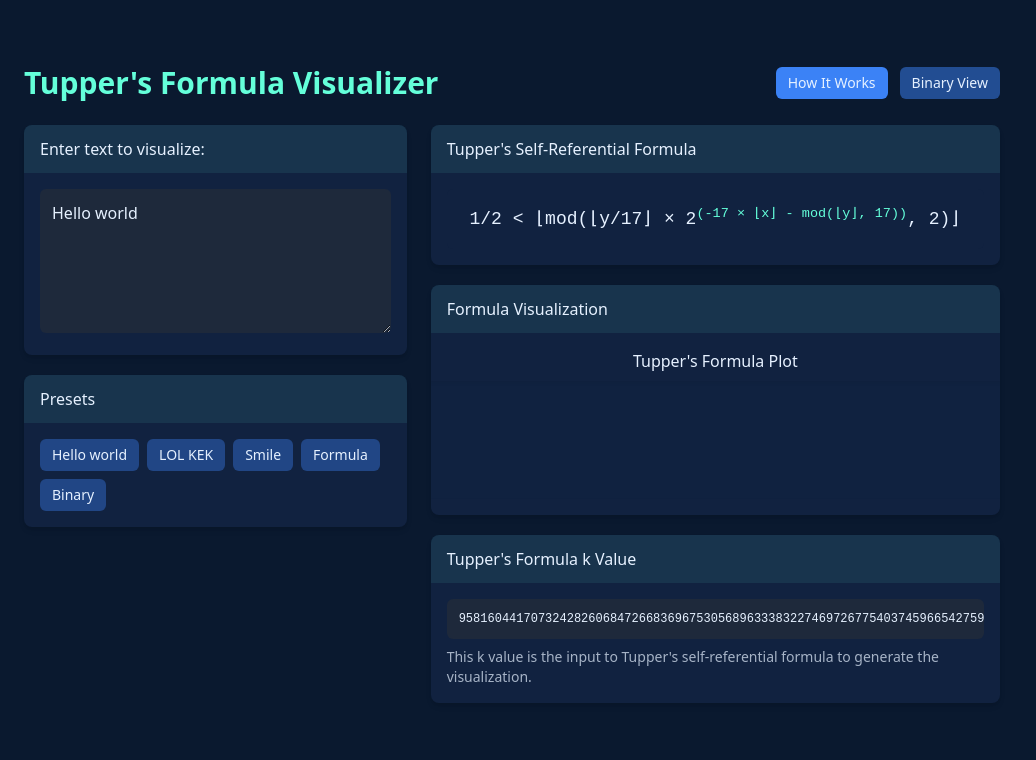
it: Tupper Formula Calculations › processes text to bitmap correctly
Replace the text in the text box with placeholder "Type text to visualize with Tupper's formula..." with "ABC". click: [215, 261]
box: left=40, top=189, right=391, bottom=333
Wait 300 ms
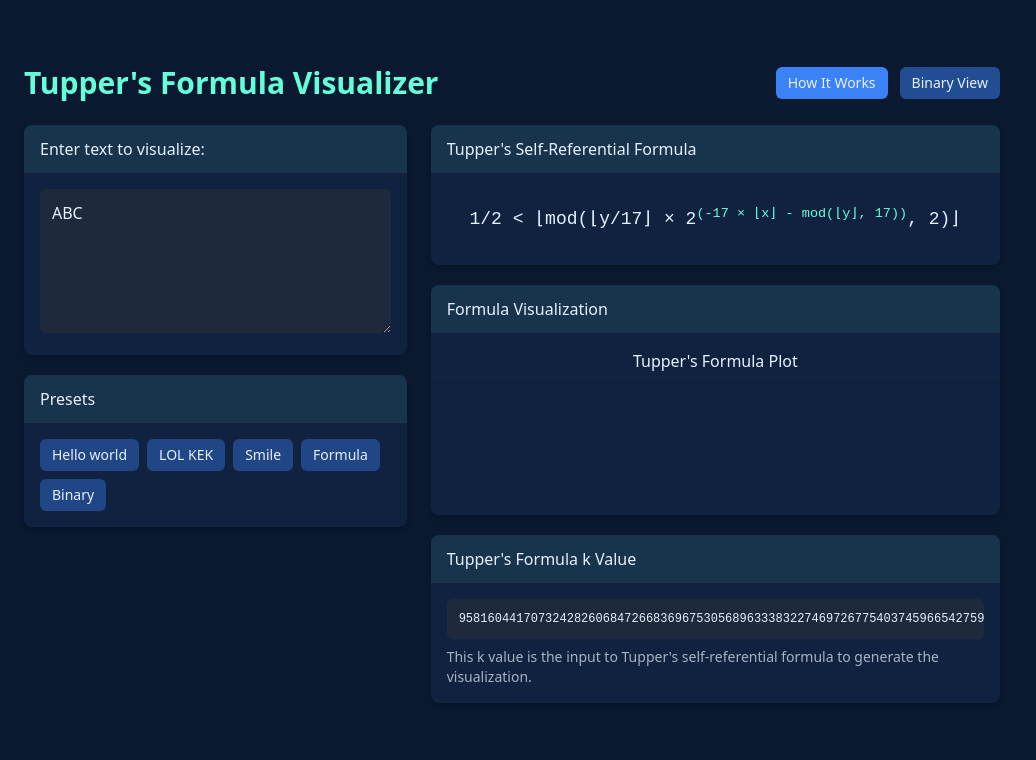
Click the button "Binary View". click: [950, 83]
box: left=900, top=67, right=1000, bottom=99
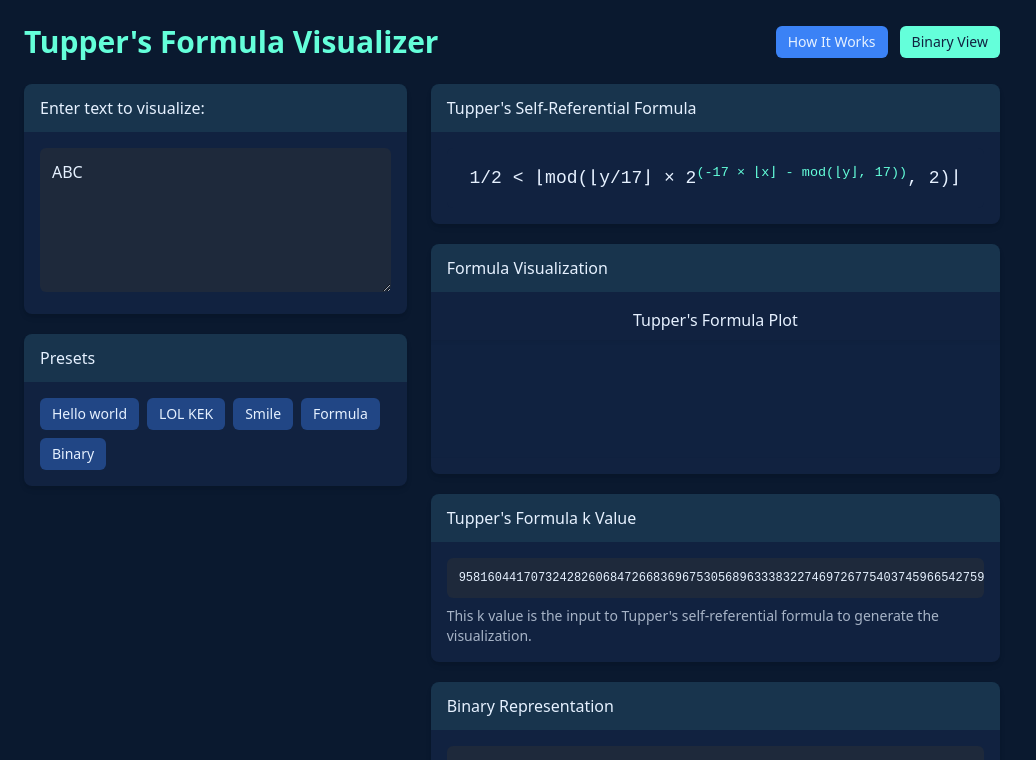
Check: the text "Binary Representation" is shown, box left=431, top=682, right=1000, bottom=730
